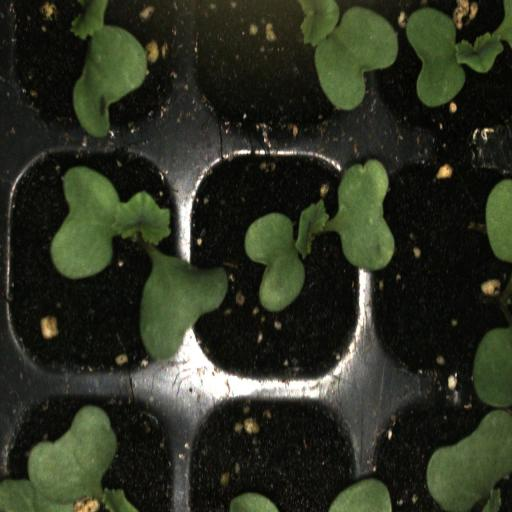seedling: (187, 130, 368, 390), (2, 130, 187, 384), (371, 0, 512, 139)
